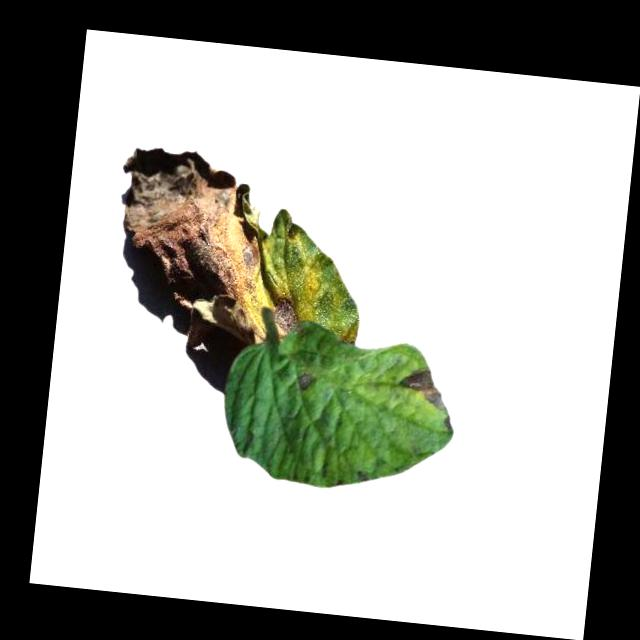Early_blight: (104, 145, 376, 353), (391, 364, 459, 431), (295, 373, 313, 393)
